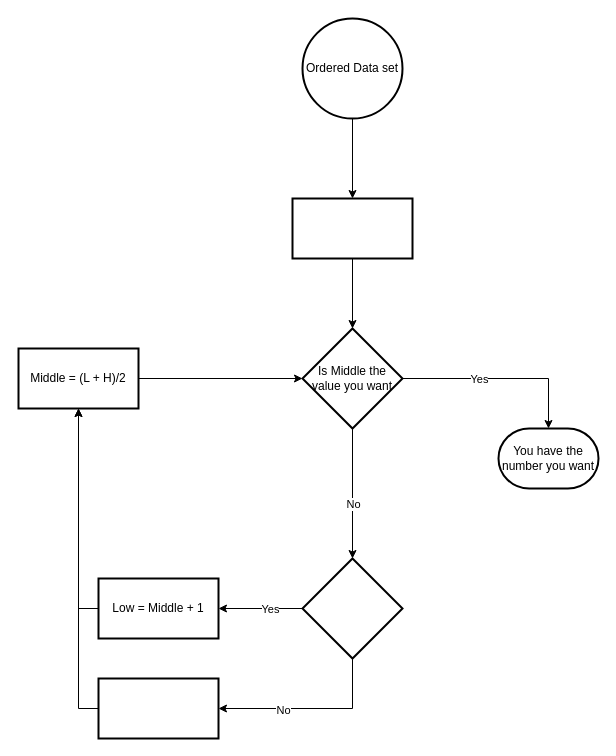
The diagram is 616 pixels wide and 756 high, and some of its shapes have lost their labels. The shapes that lost their labels are listed below. From the top down, each one's box as (x1, y1, x2, y2) in pixels, then its label:
(291, 197, 413, 259): Low = 0 High = array length Middle = (L + H)/2
(301, 557, 403, 659): Is Middle > the number you want
(97, 677, 219, 739): High = Middle - 1
